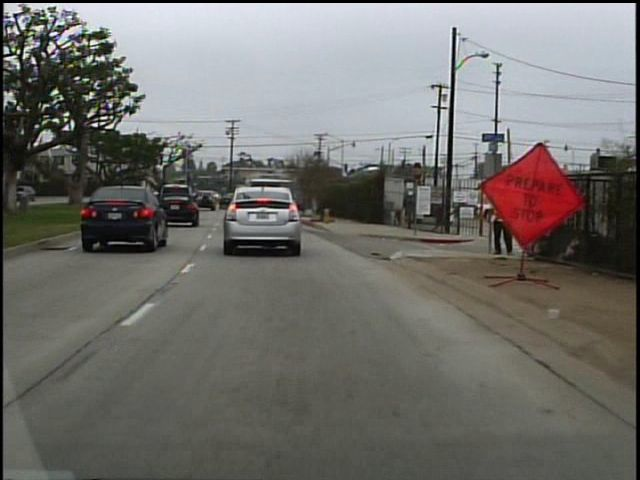person: (484, 179, 521, 259)
